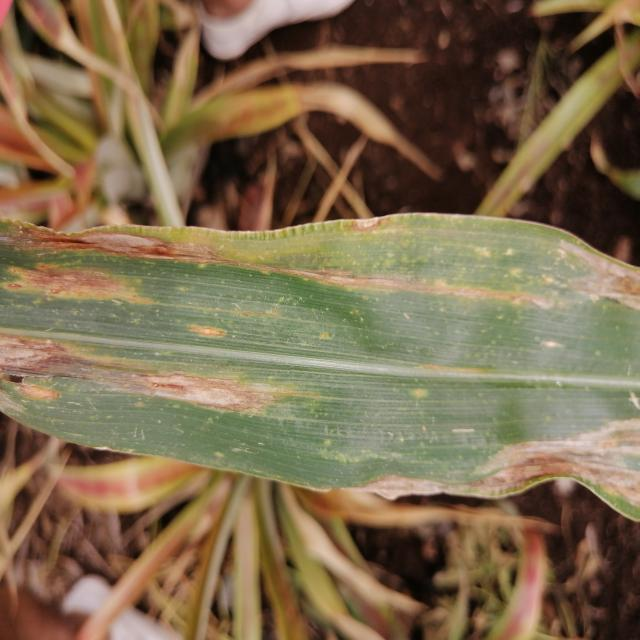Corn_Leaf_Blight: (0, 198, 640, 518)
